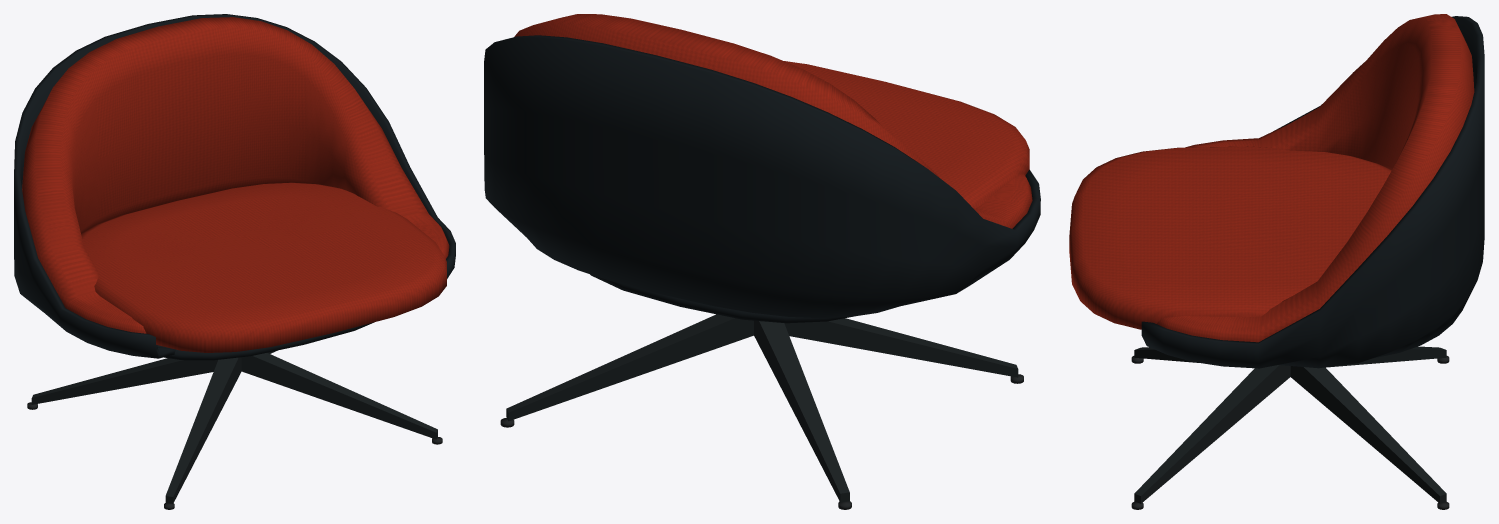
Rendered from lod2_source.glb.
3 views of the same model, side by side, from view 1: azimuth 30°, elevation 25°; view 2: azimuth 150°, elevation 25°; view 3: azimuth 270°, elevation 25° (orthographic). The views are drawn at different scales.
Visible parts, largest first — view 1: Thick upholstered back and descending side wings, Independent flatter seat cushion with thin front edge, Charcoal outer backing with rolled front ends, Tapered central four star blade 1 -1, Tapered central four star blade -1 1, Tapered central four star blade -1 -1, Concealed upholstered shell underside; view 2: Charcoal outer backing with rolled front ends, Thick upholstered back and descending side wings, Independent flatter seat cushion with thin front edge, Tapered central four star blade 1 1, Tapered central four star blade -1 -1, Tapered central four star blade -1 1, Concealed upholstered shell underside; view 3: Independent flatter seat cushion with thin front edge, Charcoal outer backing with rolled front ends, Thick upholstered back and descending side wings, Tapered central four star blade 1 -1, Tapered central four star blade 1 1, Tapered central four star blade -1 1.
Part boxes in pixels (x1=…): Thick upholstered back and descending side wings: x1=22, y1=17, x2=449, y2=333; Independent flatter seat cushion with thin front edge: x1=81, y1=182, x2=446, y2=352; Charcoal outer backing with rolled front ends: x1=14, y1=14, x2=455, y2=358; Tapered central four star blade 1 -1: x1=241, y1=353, x2=437, y2=439; Tapered central four star blade -1 1: x1=31, y1=358, x2=217, y2=404; Tapered central four star blade -1 -1: x1=165, y1=357, x2=241, y2=503; Concealed upholstered shell underside: x1=157, y1=322, x2=373, y2=360; Charcoal outer backing with rolled front ends: x1=484, y1=35, x2=1040, y2=318; Thick upholstered back and descending side wings: x1=514, y1=14, x2=1032, y2=228; Independent flatter seat cushion with thin front edge: x1=784, y1=61, x2=1029, y2=208; Tapered central four star blade 1 1: x1=506, y1=314, x2=753, y2=421; Tapered central four star blade -1 -1: x1=784, y1=318, x2=1018, y2=377; Tapered central four star blade -1 1: x1=754, y1=320, x2=849, y2=502; Concealed upholstered shell underside: x1=590, y1=274, x2=852, y2=323; Independent flatter seat cushion with thin front edge: x1=1069, y1=146, x2=1391, y2=329; Charcoal outer backing with rolled front ends: x1=1141, y1=16, x2=1484, y2=368; Thick upholstered back and descending side wings: x1=1157, y1=14, x2=1474, y2=342; Tapered central four star blade 1 -1: x1=1134, y1=365, x2=1290, y2=503; Tapered central four star blade 1 1: x1=1290, y1=366, x2=1446, y2=503; Tapered central four star blade -1 1: x1=1327, y1=346, x2=1446, y2=367.
Bounding box in the file's own units: 0.9718 × 0.8428 × 0.829.
Materials: 4 (1 with a texture image).
